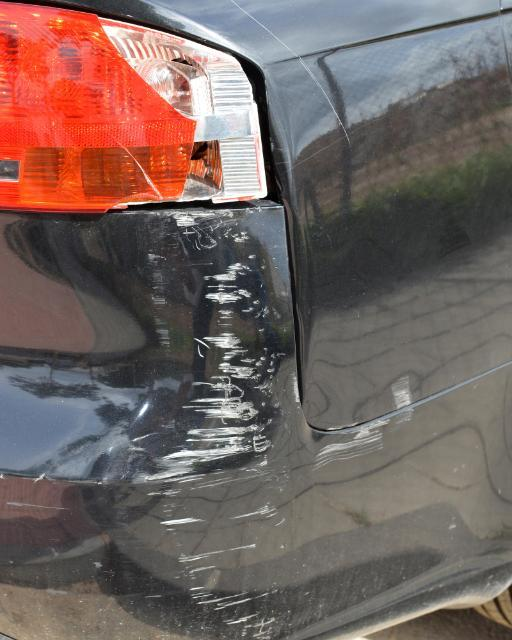scratch: (145, 207, 421, 640)
